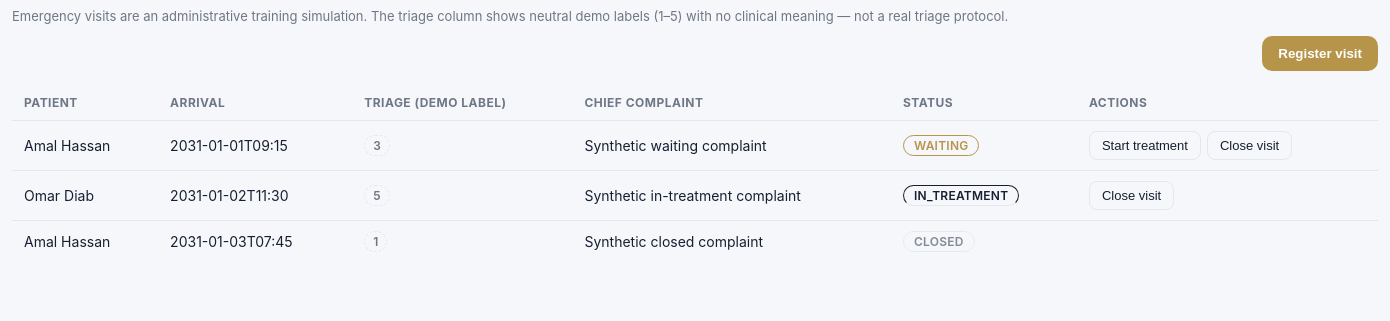
Test: EmergencyVisitsPage › validates before submitting: an incomplete form shows an inline error and never posts
Check: the table named "Registered emergency visits" is shown, box [12,85,1378,262]
Click the button "Register visit" at (1320, 54), box [1262,36,1378,71]
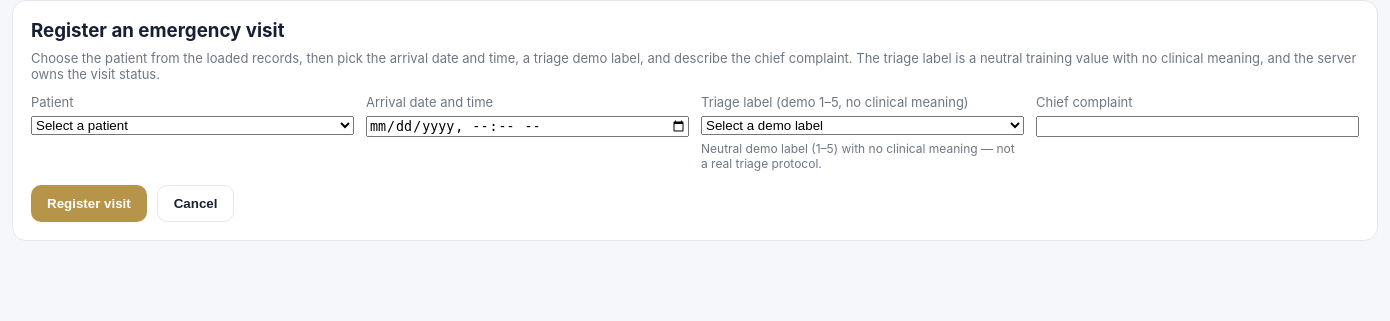
Check: the dropdown labelled "Patient" is shown, box [31,116,354,135]
Click the button "Register visit" at (89, 204), box [31,185,147,222]
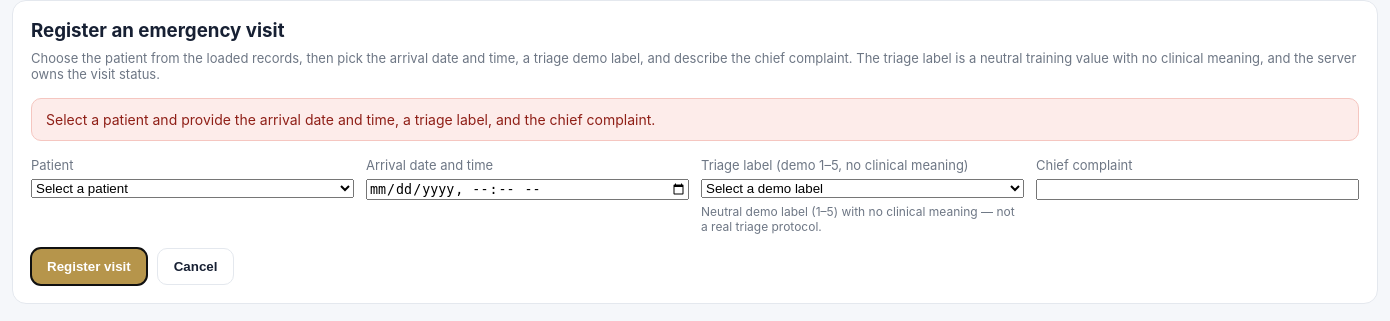
Check: the message shows "Select a patient", box [46,111,655,128]
